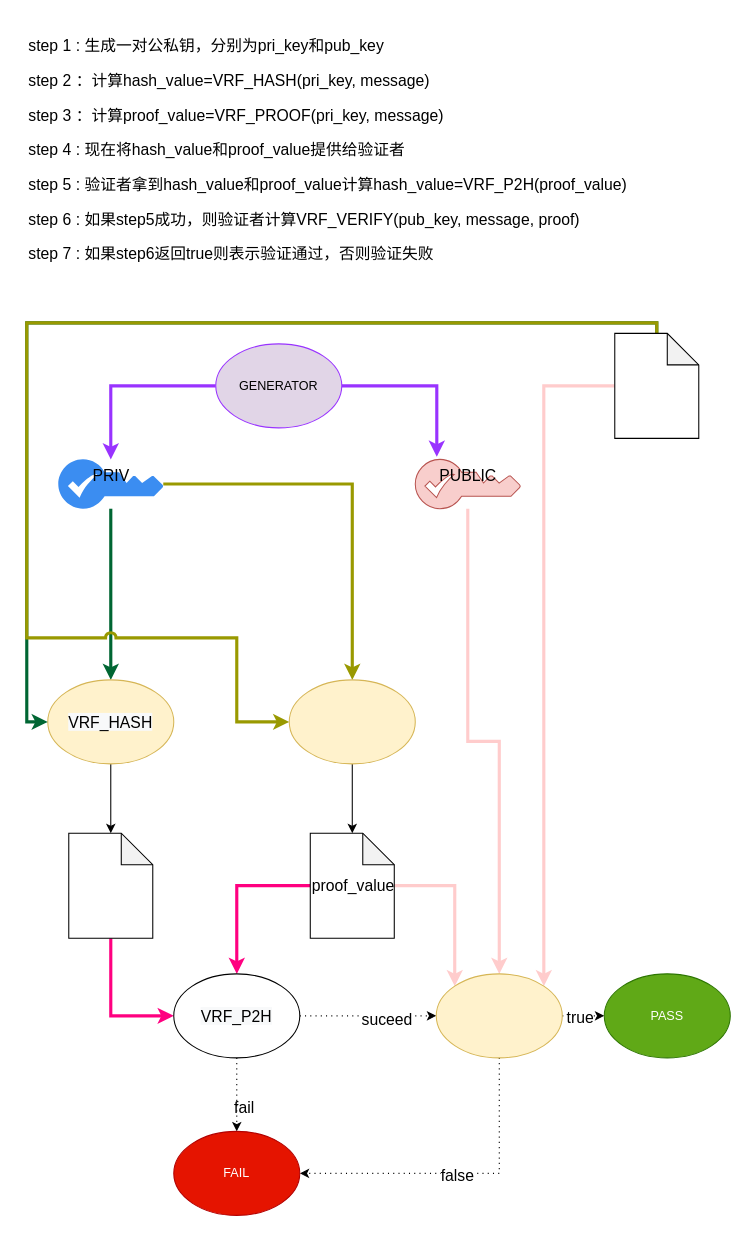
Image size: 749x1234. Some labels were removed from this diagram. The centre of each missing label's shape, as x and y in pixels:
"hash_value" belongs at (x=110, y=885).
"MESSAGE" belongs at (x=656, y=385).
"VRF_PROOF" belongs at (x=351, y=721).
"VRF_VERIFY" belongs at (x=498, y=1015).
